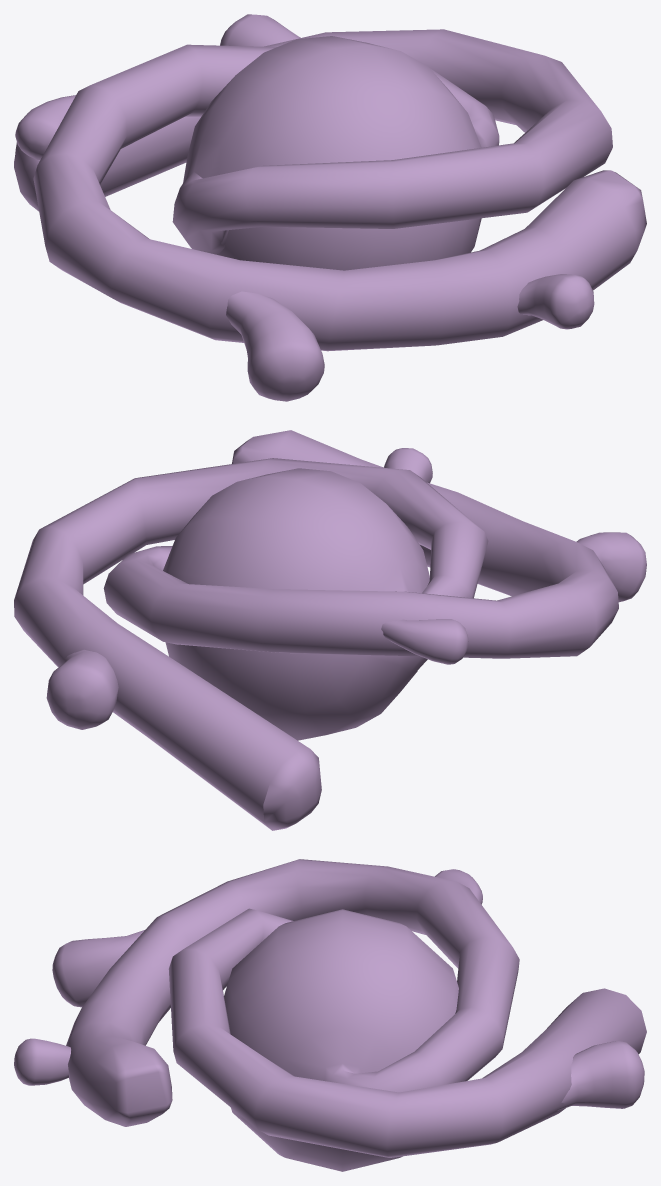
Rendered from CandySeedButton.fbx.
3 views of the same model, one above another, from view 1: azimuth 30°, elevation 25°; view 2: azimuth 150°, elevation 25°; view 3: azimuth 270°, elevation 25° (orthographic). The views are drawn at different scales.
Visible parts, largest first — view 1: CandySeedBtn_mod1, CandyArn_3, CandyArn_4, CandyArn_2, CandyArn_5; view 2: CandySeedBtn_mod1, CandyArn_5, CandyArn_2, CandyArn_3, CandyArn_4; view 3: CandySeedBtn_mod1, CandyArn_5, CandyArn_3, CandyArn_4, CandyArn_2.
Boxes of the visible parts, x1=… form: CandySeedBtn_mod1: x1=14, y1=29, x2=646, y2=351; CandyArn_3: x1=226, y1=291, x2=324, y2=401; CandyArn_4: x1=517, y1=274, x2=594, y2=329; CandyArn_2: x1=15, y1=95, x2=75, y2=160; CandyArn_5: x1=220, y1=14, x2=300, y2=46; CandySeedBtn_mod1: x1=14, y1=430, x2=618, y2=830; CandyArn_5: x1=46, y1=649, x2=118, y2=729; CandyArn_2: x1=381, y1=619, x2=468, y2=664; CandyArn_3: x1=576, y1=532, x2=646, y2=602; CandyArn_4: x1=384, y1=448, x2=432, y2=483; CandySeedBtn_mod1: x1=66, y1=859, x2=646, y2=1171; CandyArn_5: x1=557, y1=1041, x2=644, y2=1110; CandyArn_3: x1=52, y1=930, x2=144, y2=1007; CandyArn_4: x1=14, y1=1038, x2=70, y2=1085; CandyArn_2: x1=435, y1=869, x2=482, y2=904.
Size of the model in its own units: 21.8 by 10 by 24.01.
